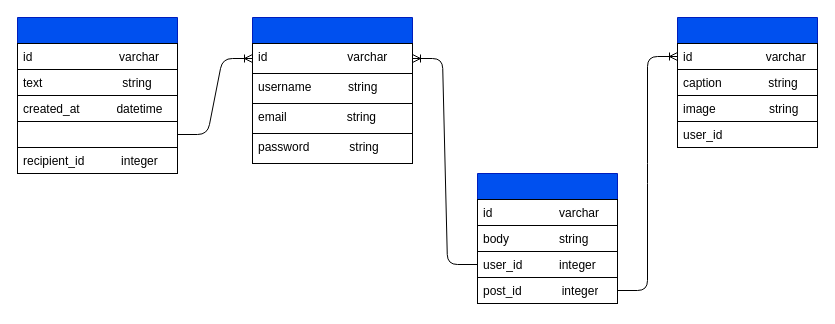
This 835x324 diagram has some shape labels left out. The box of each missing label's shape, as (x1, y1, x2, y2) in pixels:
comments: (476, 172, 618, 304)
messages: (16, 16, 178, 174)
posts: (676, 16, 818, 148)
sender_id integer: (16, 120, 178, 148)
users: (252, 16, 412, 164)
